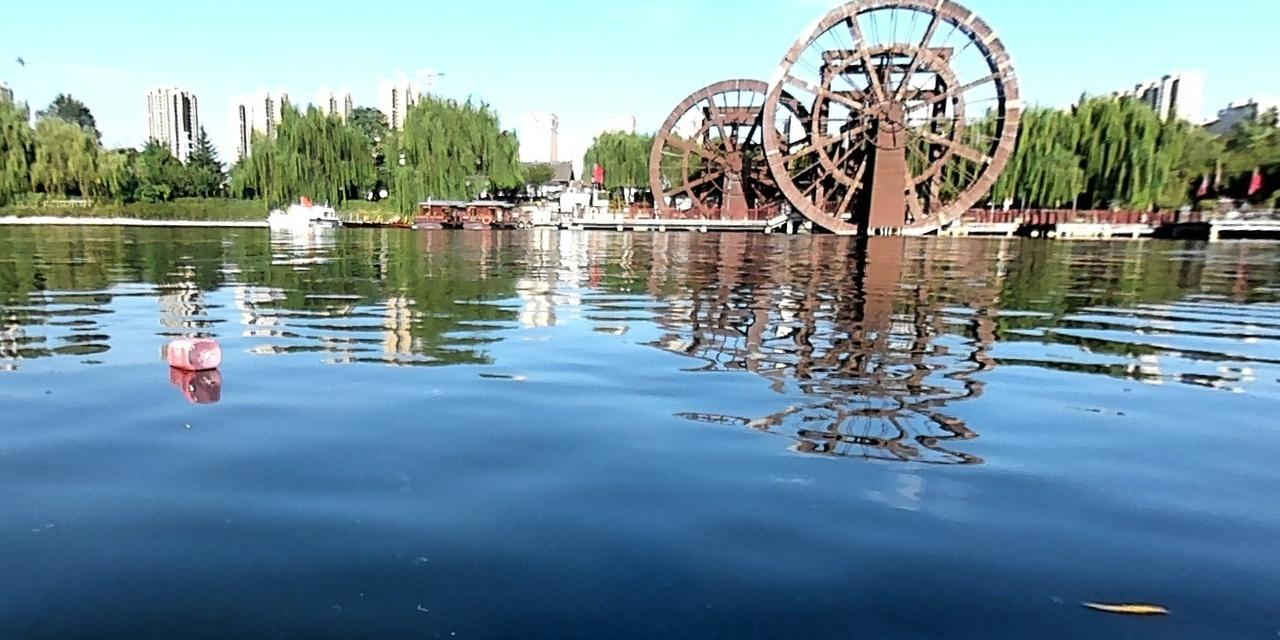bottle: (159, 332, 224, 372)
